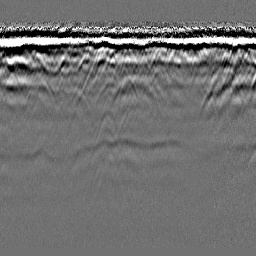cavity: (119, 72, 138, 101)
